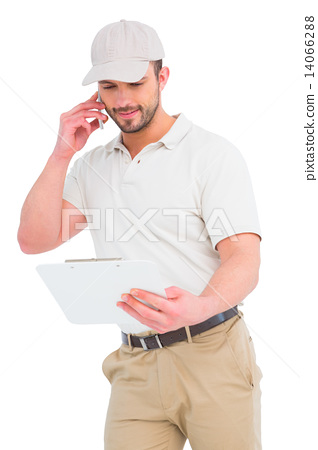phone: (77, 84, 109, 132)
talk: (57, 73, 156, 148)
